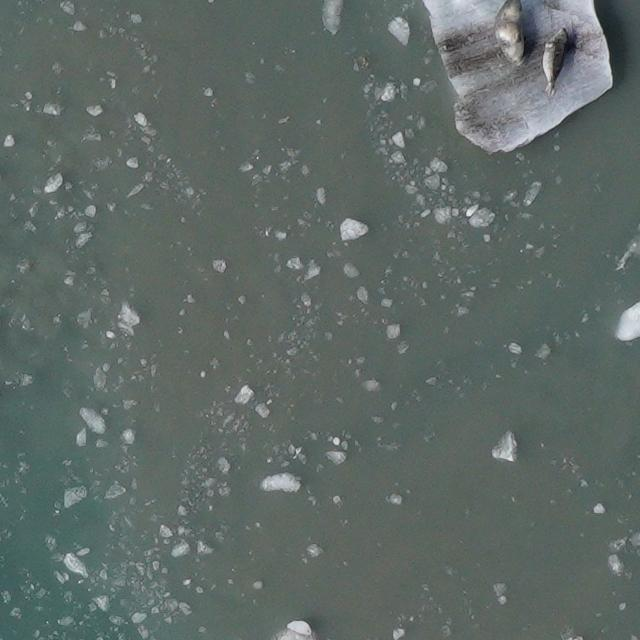seal: (534, 23, 573, 98)
